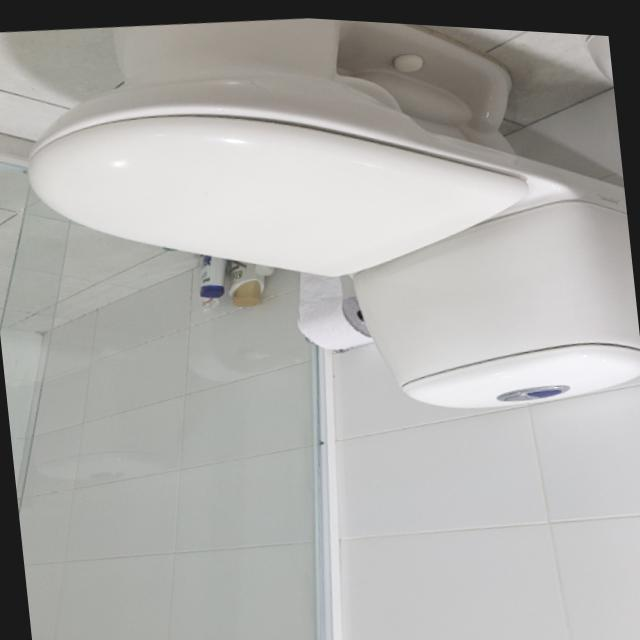toilet: (11, 1, 640, 456)
